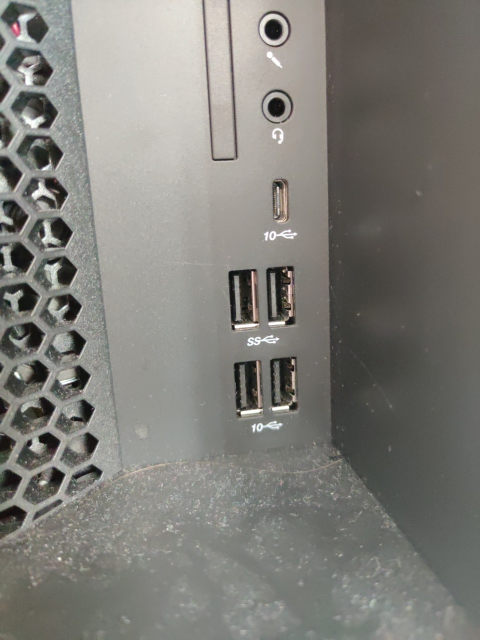3.5mm_audio: (255, 9, 295, 49), (259, 88, 295, 124)
USB: (227, 268, 260, 331), (266, 265, 296, 329), (233, 359, 265, 419), (269, 356, 300, 416)
USB-C: (271, 176, 289, 224)
